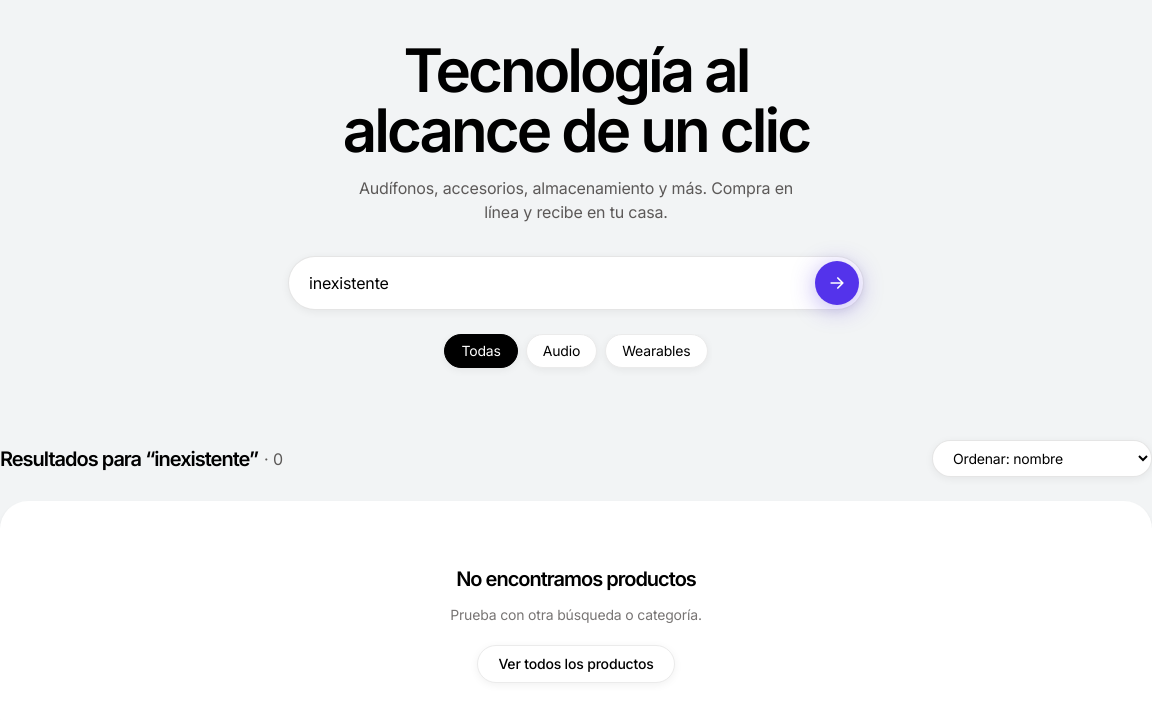
Scenario: Catálogo › sin resultados ofrece volver a ver todo
Click the button "Ver todos los productos" at (576, 664), box left=477, top=645, right=675, bottom=683
(page scrolled)
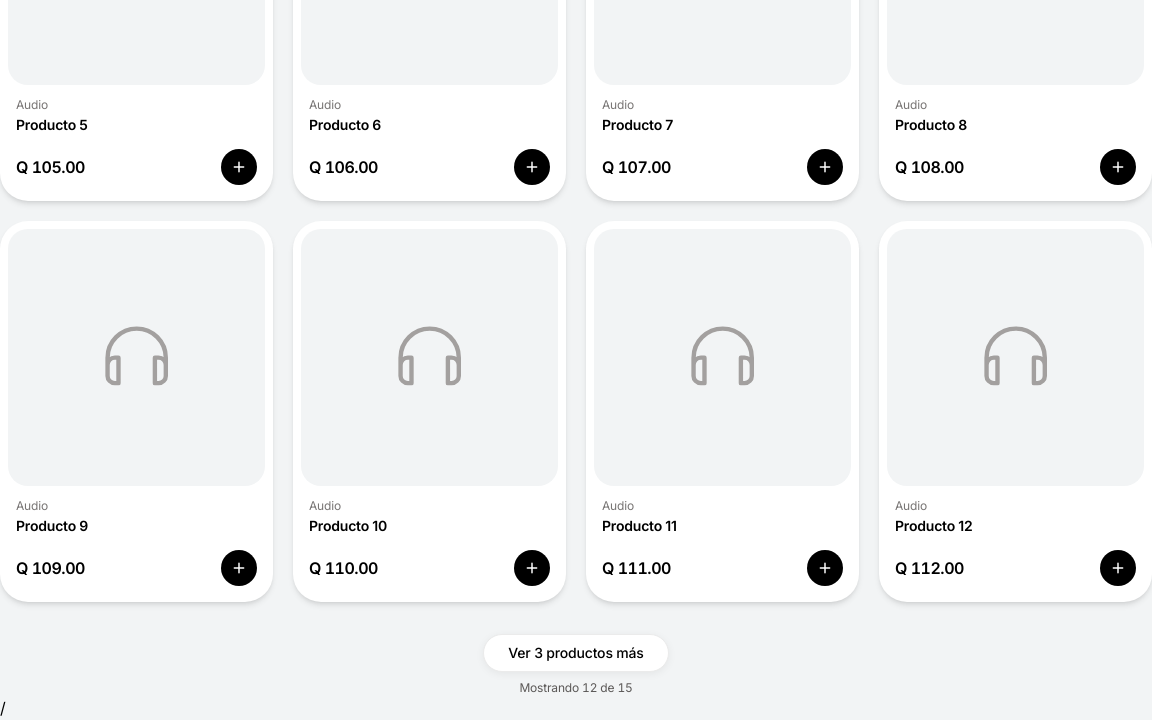
Check: the text with test id "ubicacion" reads "/", box left=0, top=698, right=6, bottom=718
